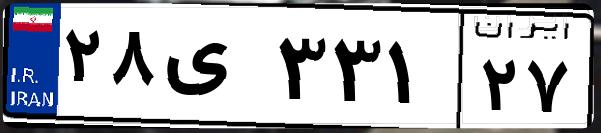1: (385, 28, 445, 110)
2: (57, 26, 110, 100), (475, 38, 525, 113)
3: (270, 28, 330, 110), (330, 28, 385, 110)
7: (525, 38, 570, 115)
8: (110, 28, 158, 98)
ی: (158, 20, 270, 120)
